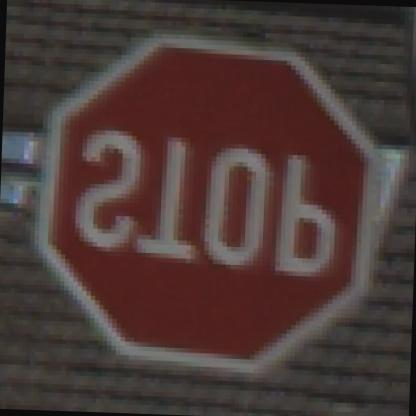stop: (21, 27, 396, 366)
